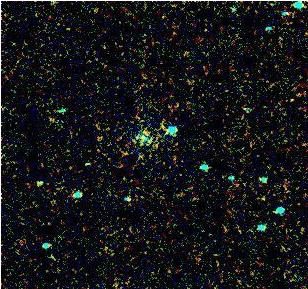star: (250, 186, 280, 216)
